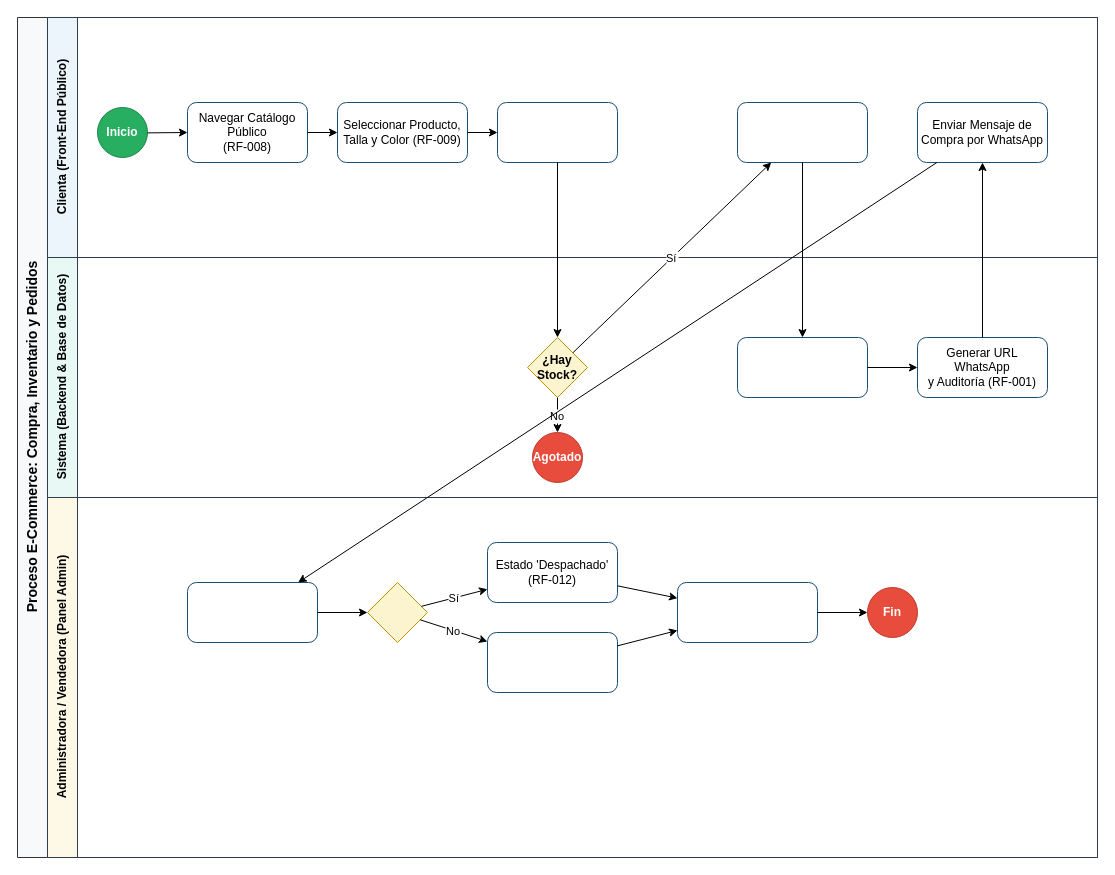
Image size: 1115x875. Some labels were removed from this diagram. Each missing label, with the centre of its shape:
Adicionar al Carrito (RF-010): pixel 557 132
Crear Pedido y Restar Stock (RF-ORD-001): pixel 802 367
Diligenciar Datos de Despacho (RF-011): pixel 802 132
Estado 'Cancelado' y Revertir Stock: pixel 552 662
Gestión de Catálogo, Usuarios y Reportes: pixel 747 612
Recibir Notificación y Validar Pago: pixel 252 612
¿Pago OK?: pixel 397 612
